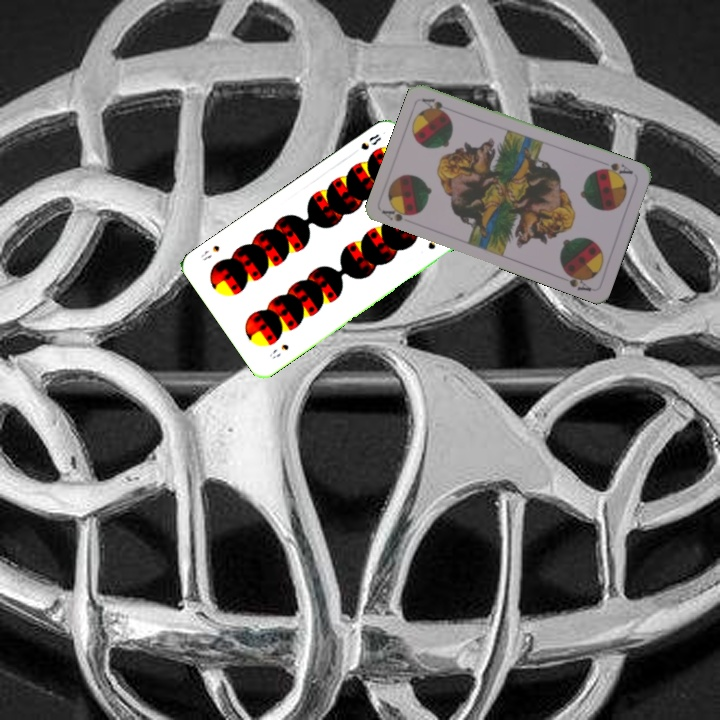S8: (348, 130, 384, 157), (265, 340, 291, 362)
SA: (596, 158, 636, 180), (378, 203, 417, 224)
